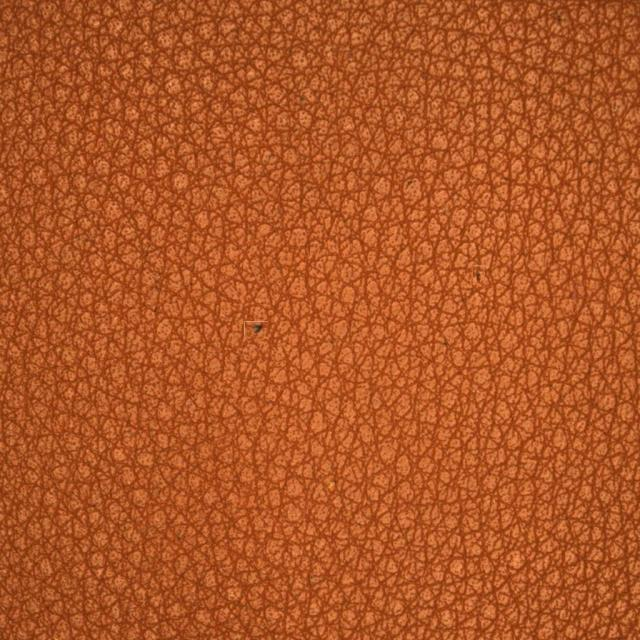Hole: (175, 264, 358, 384)
